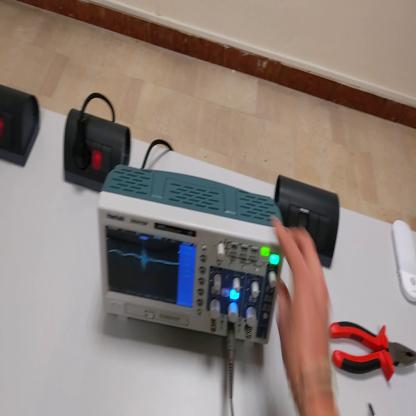hand: (273, 217, 334, 393)
oscilloscope: (95, 166, 283, 351)
pliers: (330, 318, 416, 391)
screwdriver-: (368, 400, 376, 416)
socket: (61, 105, 133, 194), (2, 81, 42, 168)
